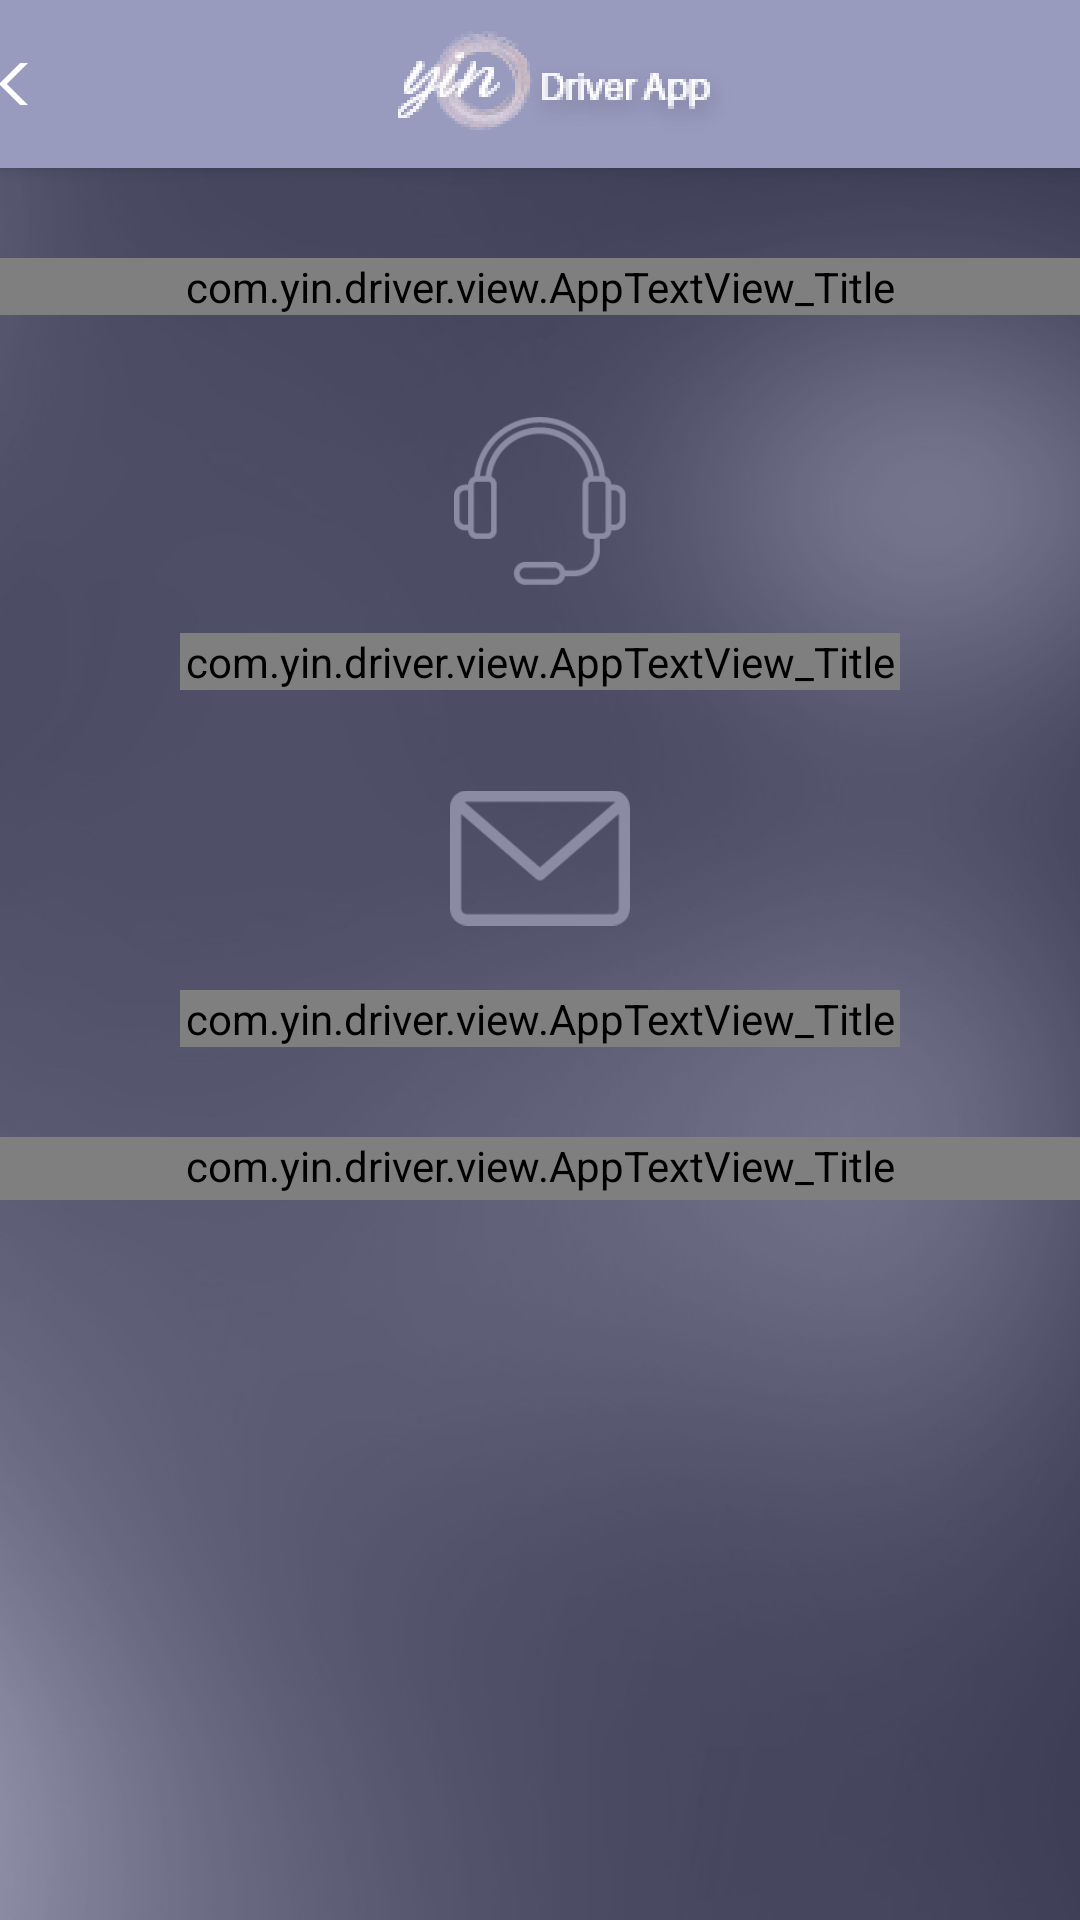

Point at icon controls on the screen. Image size 1080w x 1920h, points as [x,y].
back: [14,84]
email: [540,858]
support: [540,501]
